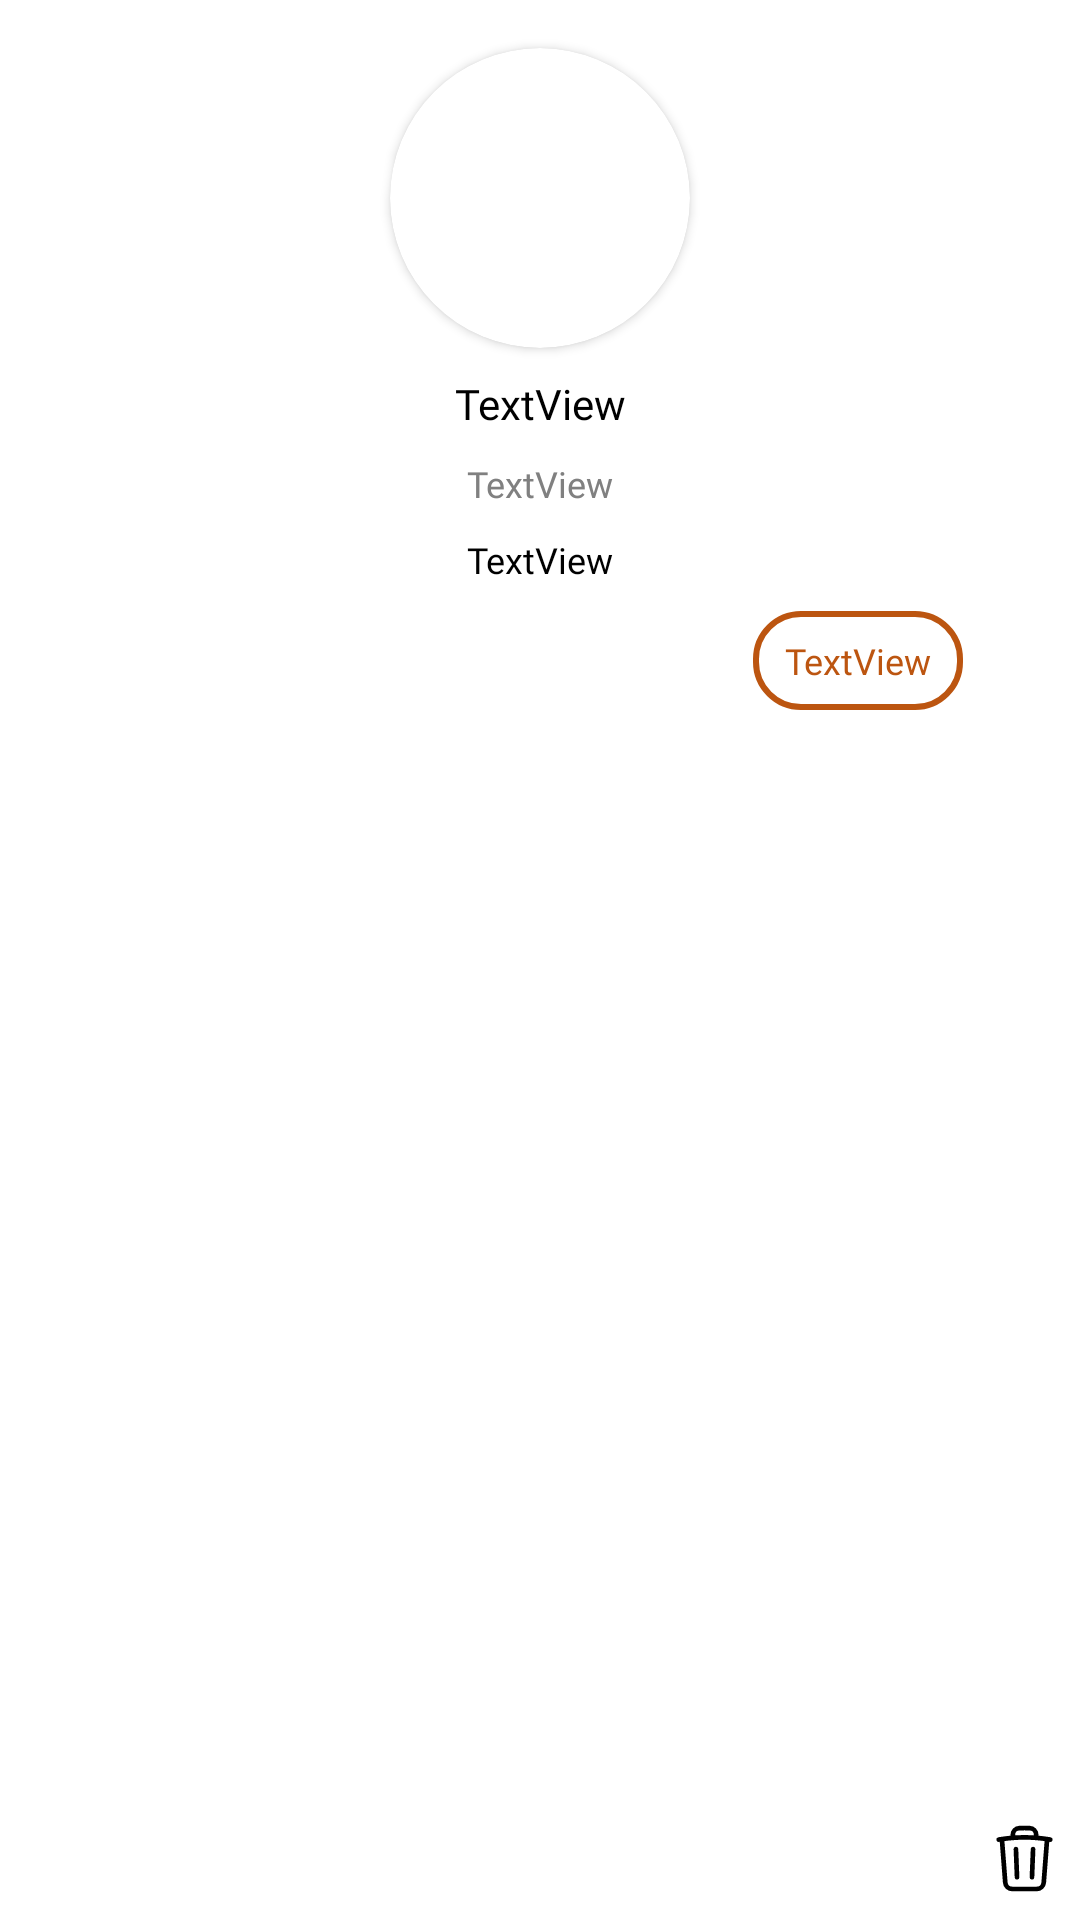

Icon click points for this 1080*1920 phone screenshot, format (x=x, y=y):
trash: (x=1024, y=1858)
